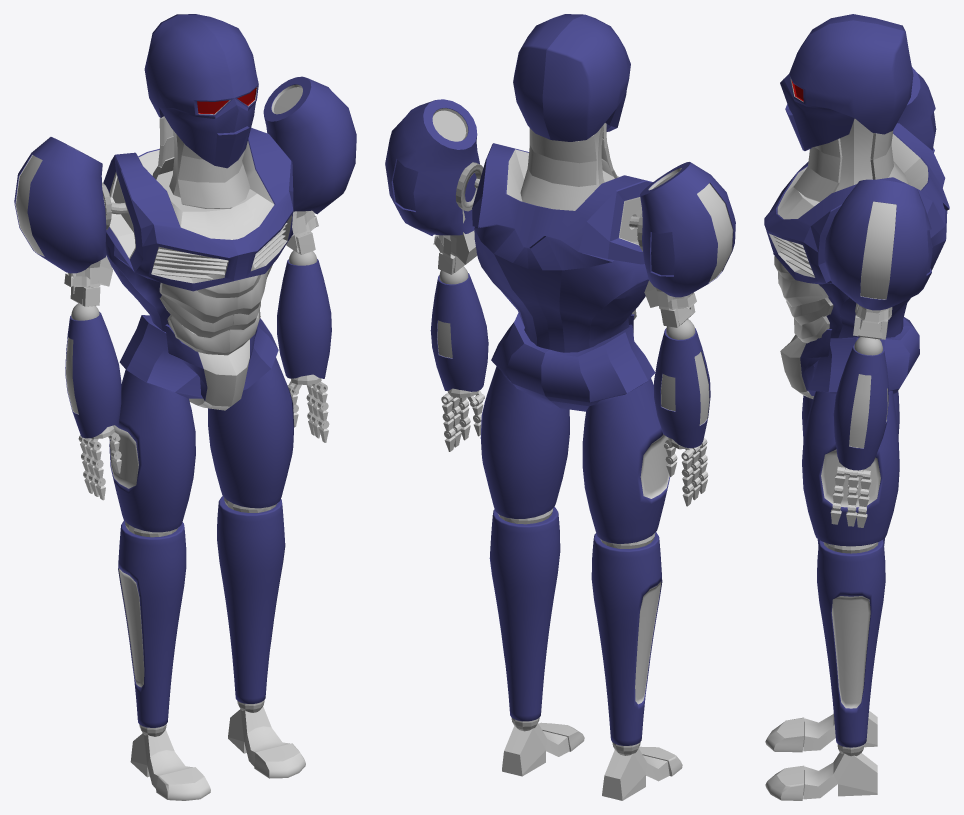
The model's file is robot.fbx.
The picture shows the model from 3 angles, left to right: view 1: azimuth 30°, elevation 25°; view 2: azimuth 150°, elevation 25°; view 3: azimuth 270°, elevation 25°; orthographic projection. The views are drawn at different scales.
Visible parts, largest first — view 1: polySurface19, polySurface17, polySurface48, polySurface52, polySurface51, robot_big_robot:big_arm_sitting_robot:pCylinder70, polySurface46, robot_big_robot:big_arm_sitting_robot:pCylinder36, robot_big_robot:big_arm_sitting_robot:pCylinder58, robot_big_robot:big_arm_sitting_robot:pCylinder4, polySurface47, polySurface21 (+13 smaller); view 2: polySurface17, polySurface20, polySurface48, polySurface52, polySurface19, polySurface51, robot_big_robot:big_arm_sitting_robot:pCylinder70, robot_big_robot:big_arm_sitting_robot:pCylinder36, polySurface46, polySurface47, robot_big_robot:big_arm_sitting_robot:pCylinder4, robot_big_robot:big_arm_sitting_robot:pCylinder58 (+5 smaller); view 3: polySurface17, robot_big_robot:big_arm_sitting_robot:pCylinder36, polySurface52, polySurface46, polySurface19, robot_big_robot:big_arm_sitting_robot:pCylinder4, polySurface47, robot_big_robot:big_arm_sitting_robot:pCube19, polySurface20, robot_big_robot:big_arm_sitting_robot:pCylinder70, robot_big_robot:big_arm_sitting_robot:pCube9, robot_big_robot:big_arm_sitting_robot:pCube18 (+10 smaller).
Boxes of the visible parts, x1,y1,x2,y2 form: polySurface19: (103, 127, 293, 291); polySurface17: (144, 14, 258, 208); polySurface48: (109, 369, 195, 532); polySurface52: (217, 496, 285, 703); polySurface51: (118, 520, 186, 727); robot_big_robot:big_arm_sitting_robot:pCylinder70: (14, 137, 106, 273); polySurface46: (208, 358, 294, 508); robot_big_robot:big_arm_sitting_robot:pCylinder36: (263, 76, 356, 214); robot_big_robot:big_arm_sitting_robot:pCylinder58: (65, 312, 121, 438); robot_big_robot:big_arm_sitting_robot:pCylinder4: (277, 259, 331, 378); polySurface47: (119, 315, 278, 398); polySurface21: (189, 339, 249, 410); polySurface17: (513, 14, 630, 210); polySurface20: (474, 224, 648, 352); polySurface48: (582, 378, 670, 543); polySurface52: (489, 507, 560, 721); polySurface19: (472, 143, 652, 264); polySurface51: (591, 532, 662, 745); robot_big_robot:big_arm_sitting_robot:pCylinder70: (640, 162, 735, 297); robot_big_robot:big_arm_sitting_robot:pCylinder36: (385, 99, 479, 235); polySurface46: (480, 366, 569, 518); polySurface47: (491, 313, 655, 411); robot_big_robot:big_arm_sitting_robot:pCylinder4: (430, 273, 488, 391); robot_big_robot:big_arm_sitting_robot:pCylinder58: (654, 328, 710, 448); polySurface17: (780, 14, 913, 201); robot_big_robot:big_arm_sitting_robot:pCylinder36: (824, 179, 932, 310); polySurface52: (817, 540, 885, 747); polySurface46: (802, 391, 899, 546); polySurface19: (764, 123, 949, 284); robot_big_robot:big_arm_sitting_robot:pCylinder4: (833, 344, 888, 470); polySurface47: (807, 317, 919, 395); robot_big_robot:big_arm_sitting_robot:pCube19: (803, 752, 877, 799); polySurface20: (819, 209, 947, 338); robot_big_robot:big_arm_sitting_robot:pCylinder70: (897, 67, 936, 152); robot_big_robot:big_arm_sitting_robot:pCube9: (803, 711, 877, 751); robot_big_robot:big_arm_sitting_robot:pCube18: (765, 765, 804, 800).
Size of what is drawn, in the model's own units: 20.03 by 43.07 by 9.68.
